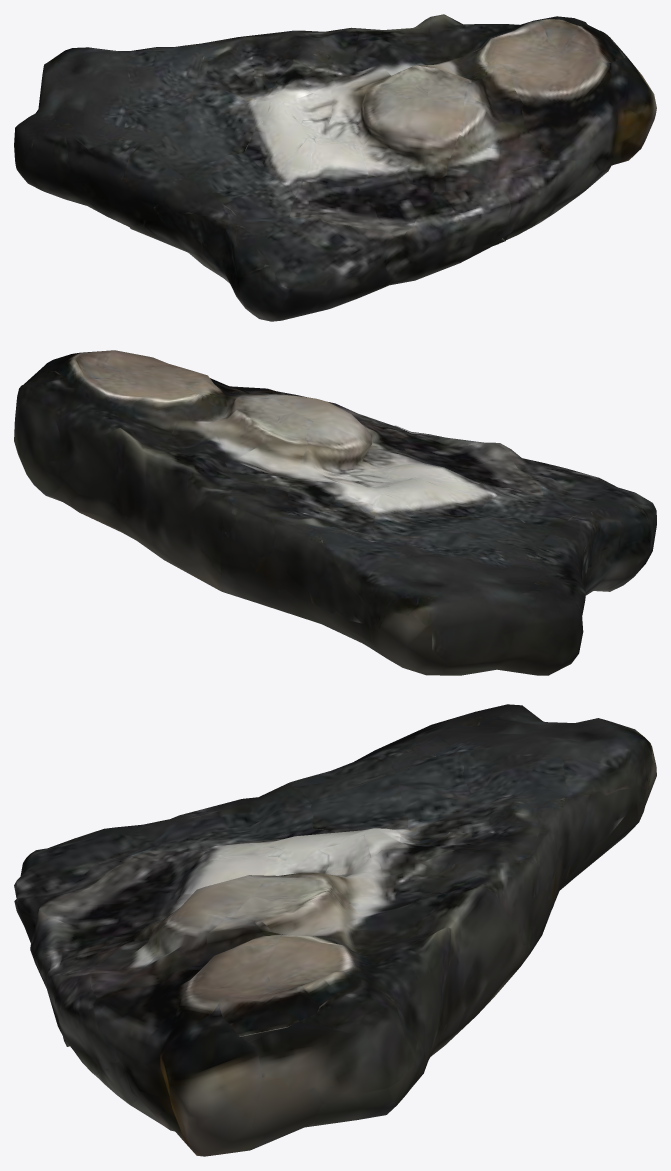
Rendered from hall.glb.
3 renders of one model, top to bottom at view 1: azimuth 30°, elevation 25°; view 2: azimuth 150°, elevation 25°; view 3: azimuth 270°, elevation 25°, orthographic. The views are drawn at different scales.
Bounding box in the file's own units: 0.6626 × 0.1822 × 0.4826.
Materials: 1 (1 with a texture image).
